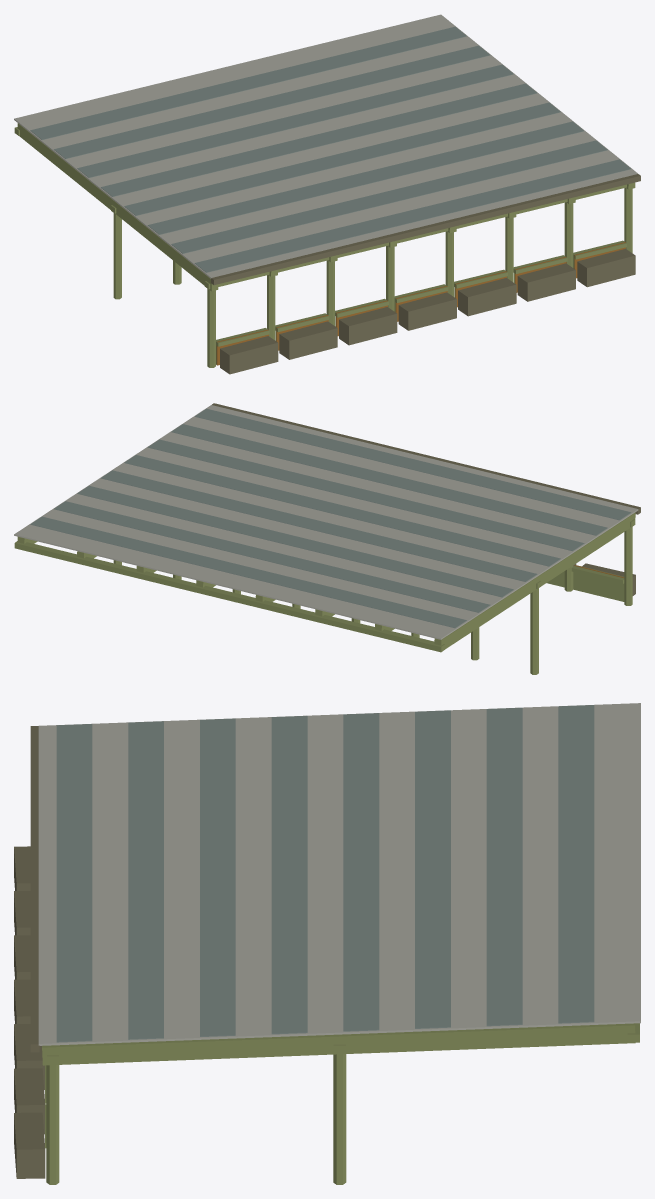
Rendered from SM_MarquesinaAdosada_v4_LOD1.fbx.
3 renders of one model, top to bottom at view 1: azimuth 30°, elevation 25°; view 2: azimuth 150°, elevation 25°; view 3: azimuth 270°, elevation 25°, orthographic. The views are drawn at different scales.
Parts seen in each view (by area): view 1: SM_marquesina_adosada_v4_LOD1; view 2: SM_marquesina_adosada_v4_LOD1; view 3: SM_marquesina_adosada_v4_LOD1.
Part boxes in pixels (x1,y1,x2,y2): SM_marquesina_adosada_v4_LOD1: (14,14,640,374); SM_marquesina_adosada_v4_LOD1: (14,403,640,674); SM_marquesina_adosada_v4_LOD1: (14,703,640,1184).
Size of the model in its own units: 21 by 5.08 by 17.49.
